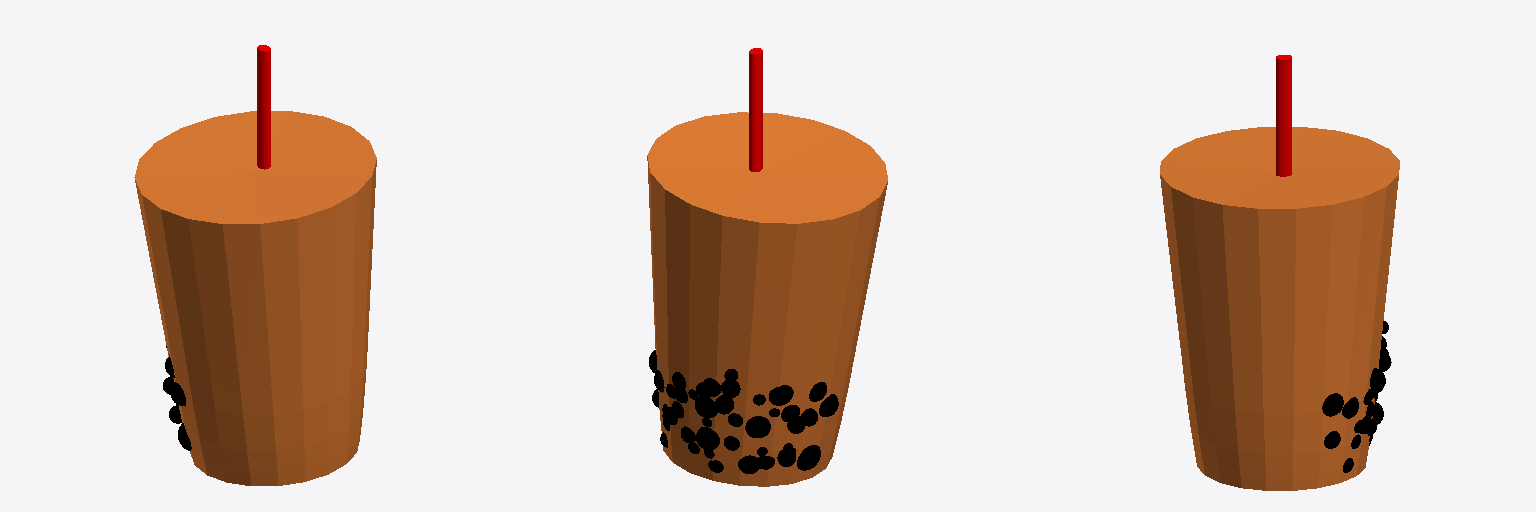
File: tea.obj
3 renders of one model, left to right at view 1: azimuth 30°, elevation 25°; view 2: azimuth 150°, elevation 25°; view 3: azimuth 270°, elevation 25°, orthographic.
Visible parts, largest first — view 1: pCylinder1, pCylinder2; view 2: pCylinder1, pCylinder2; view 3: pCylinder1, pCylinder2.
Boxes of the visible parts, x1=… form: pCylinder1: x1=134, y1=111, x2=376, y2=485; pCylinder2: x1=257, y1=45, x2=270, y2=169; pCylinder1: x1=647, y1=112, x2=887, y2=486; pCylinder2: x1=749, y1=48, x2=762, y2=171; pCylinder1: x1=1160, y1=127, x2=1399, y2=490; pCylinder2: x1=1276, y1=55, x2=1291, y2=176.
Bounding box in the file's own units: 3.26 × 6.11 × 3.26.